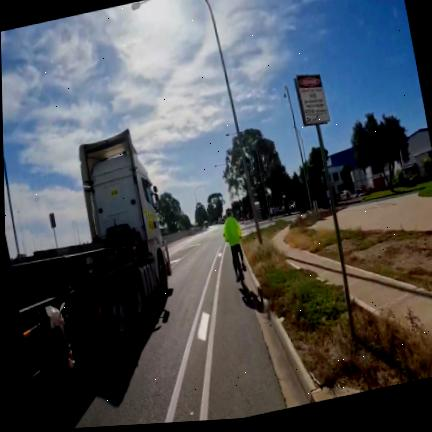Bike_Lane: (208, 248, 289, 420)
